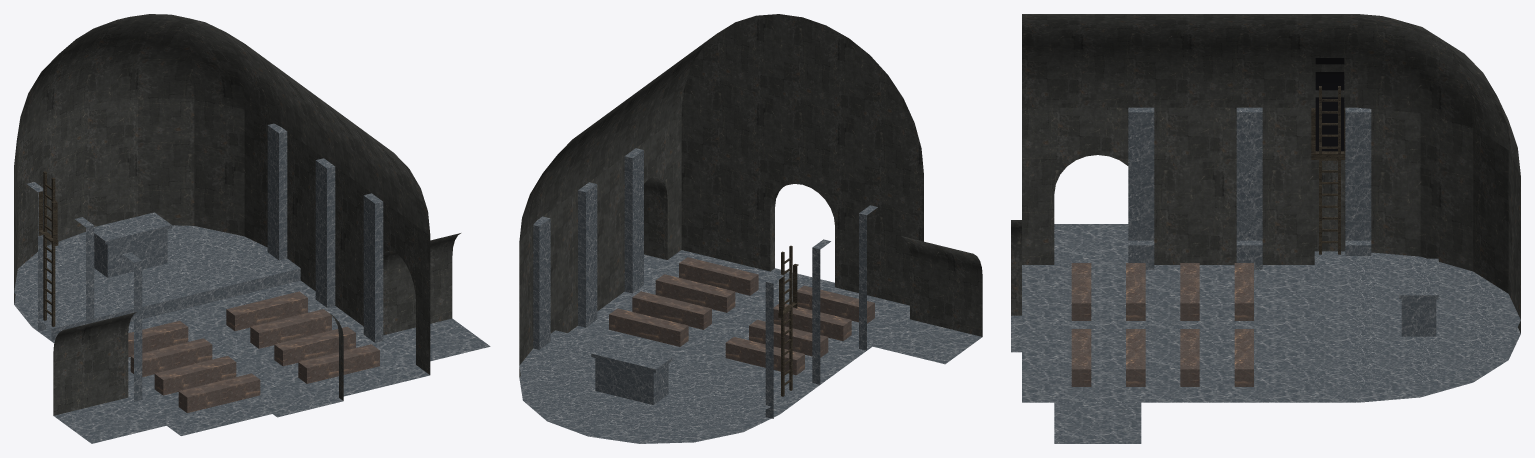
The model's file is gloaming-chapel.7b406aec.gltf.
The picture shows the model from 3 angles, left to right: view 1: azimuth 30°, elevation 25°; view 2: azimuth 150°, elevation 25°; view 3: azimuth 270°, elevation 25°; orthographic projection. The views are drawn at different scales.
Parts seen in each view (by area): view 1: gloaming-chapel-mesh, gloaming-chapel-ladder, gloaming-chapel-way-out; view 2: gloaming-chapel-mesh, gloaming-chapel-ladder; view 3: gloaming-chapel-mesh, gloaming-chapel-way-out, gloaming-chapel-ladder.
Boxes of the visible parts, x1,y1,x2,y2 form: gloaming-chapel-mesh: (14, 14, 490, 443); gloaming-chapel-ladder: (43, 171, 55, 326); gloaming-chapel-way-out: (37, 191, 58, 246); gloaming-chapel-mesh: (519, 14, 982, 443); gloaming-chapel-ladder: (781, 245, 792, 396); gloaming-chapel-mesh: (1011, 14, 1520, 443); gloaming-chapel-way-out: (1311, 58, 1345, 159); gloaming-chapel-ladder: (1319, 86, 1340, 254).
Bounding box in the file's own units: 12 × 7.75 × 11.75.
Materials: 5 (4 with a texture image).
